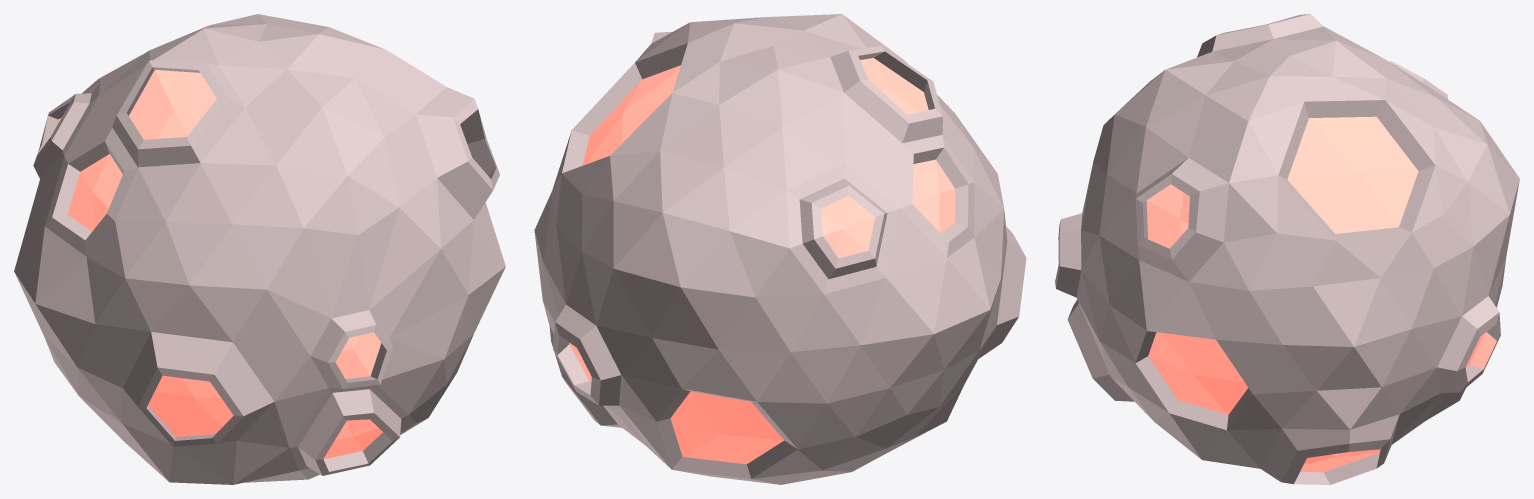
The model's file is SM_asteroida_srednia_mocna.fbx.
The picture shows the model from 3 angles, left to right: view 1: azimuth 30°, elevation 25°; view 2: azimuth 150°, elevation 25°; view 3: azimuth 270°, elevation 25°; orthographic projection. The views are drawn at different scales.
Visible parts, largest first — view 1: SM_asteroida_srednia_mocna; view 2: SM_asteroida_srednia_mocna; view 3: SM_asteroida_srednia_mocna.
Part boxes in pixels (left/top/right/bottom): SM_asteroida_srednia_mocna: left=14, top=14, right=505, bottom=484; SM_asteroida_srednia_mocna: left=534, top=14, right=1026, bottom=484; SM_asteroida_srednia_mocna: left=1055, top=14, right=1519, bottom=484.
Bounding box in the file's own units: 1.13 × 1.07 × 1.13.
